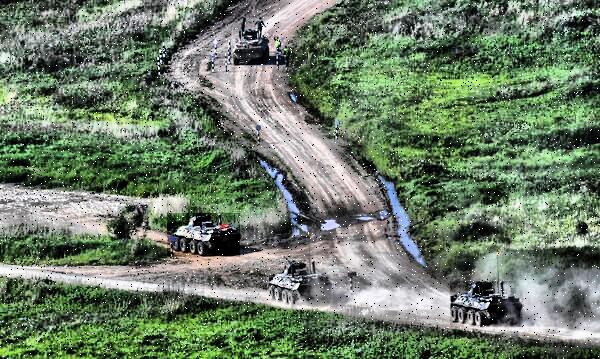military-vehicle: (451, 281, 524, 327), (268, 256, 334, 306), (168, 213, 241, 257)
